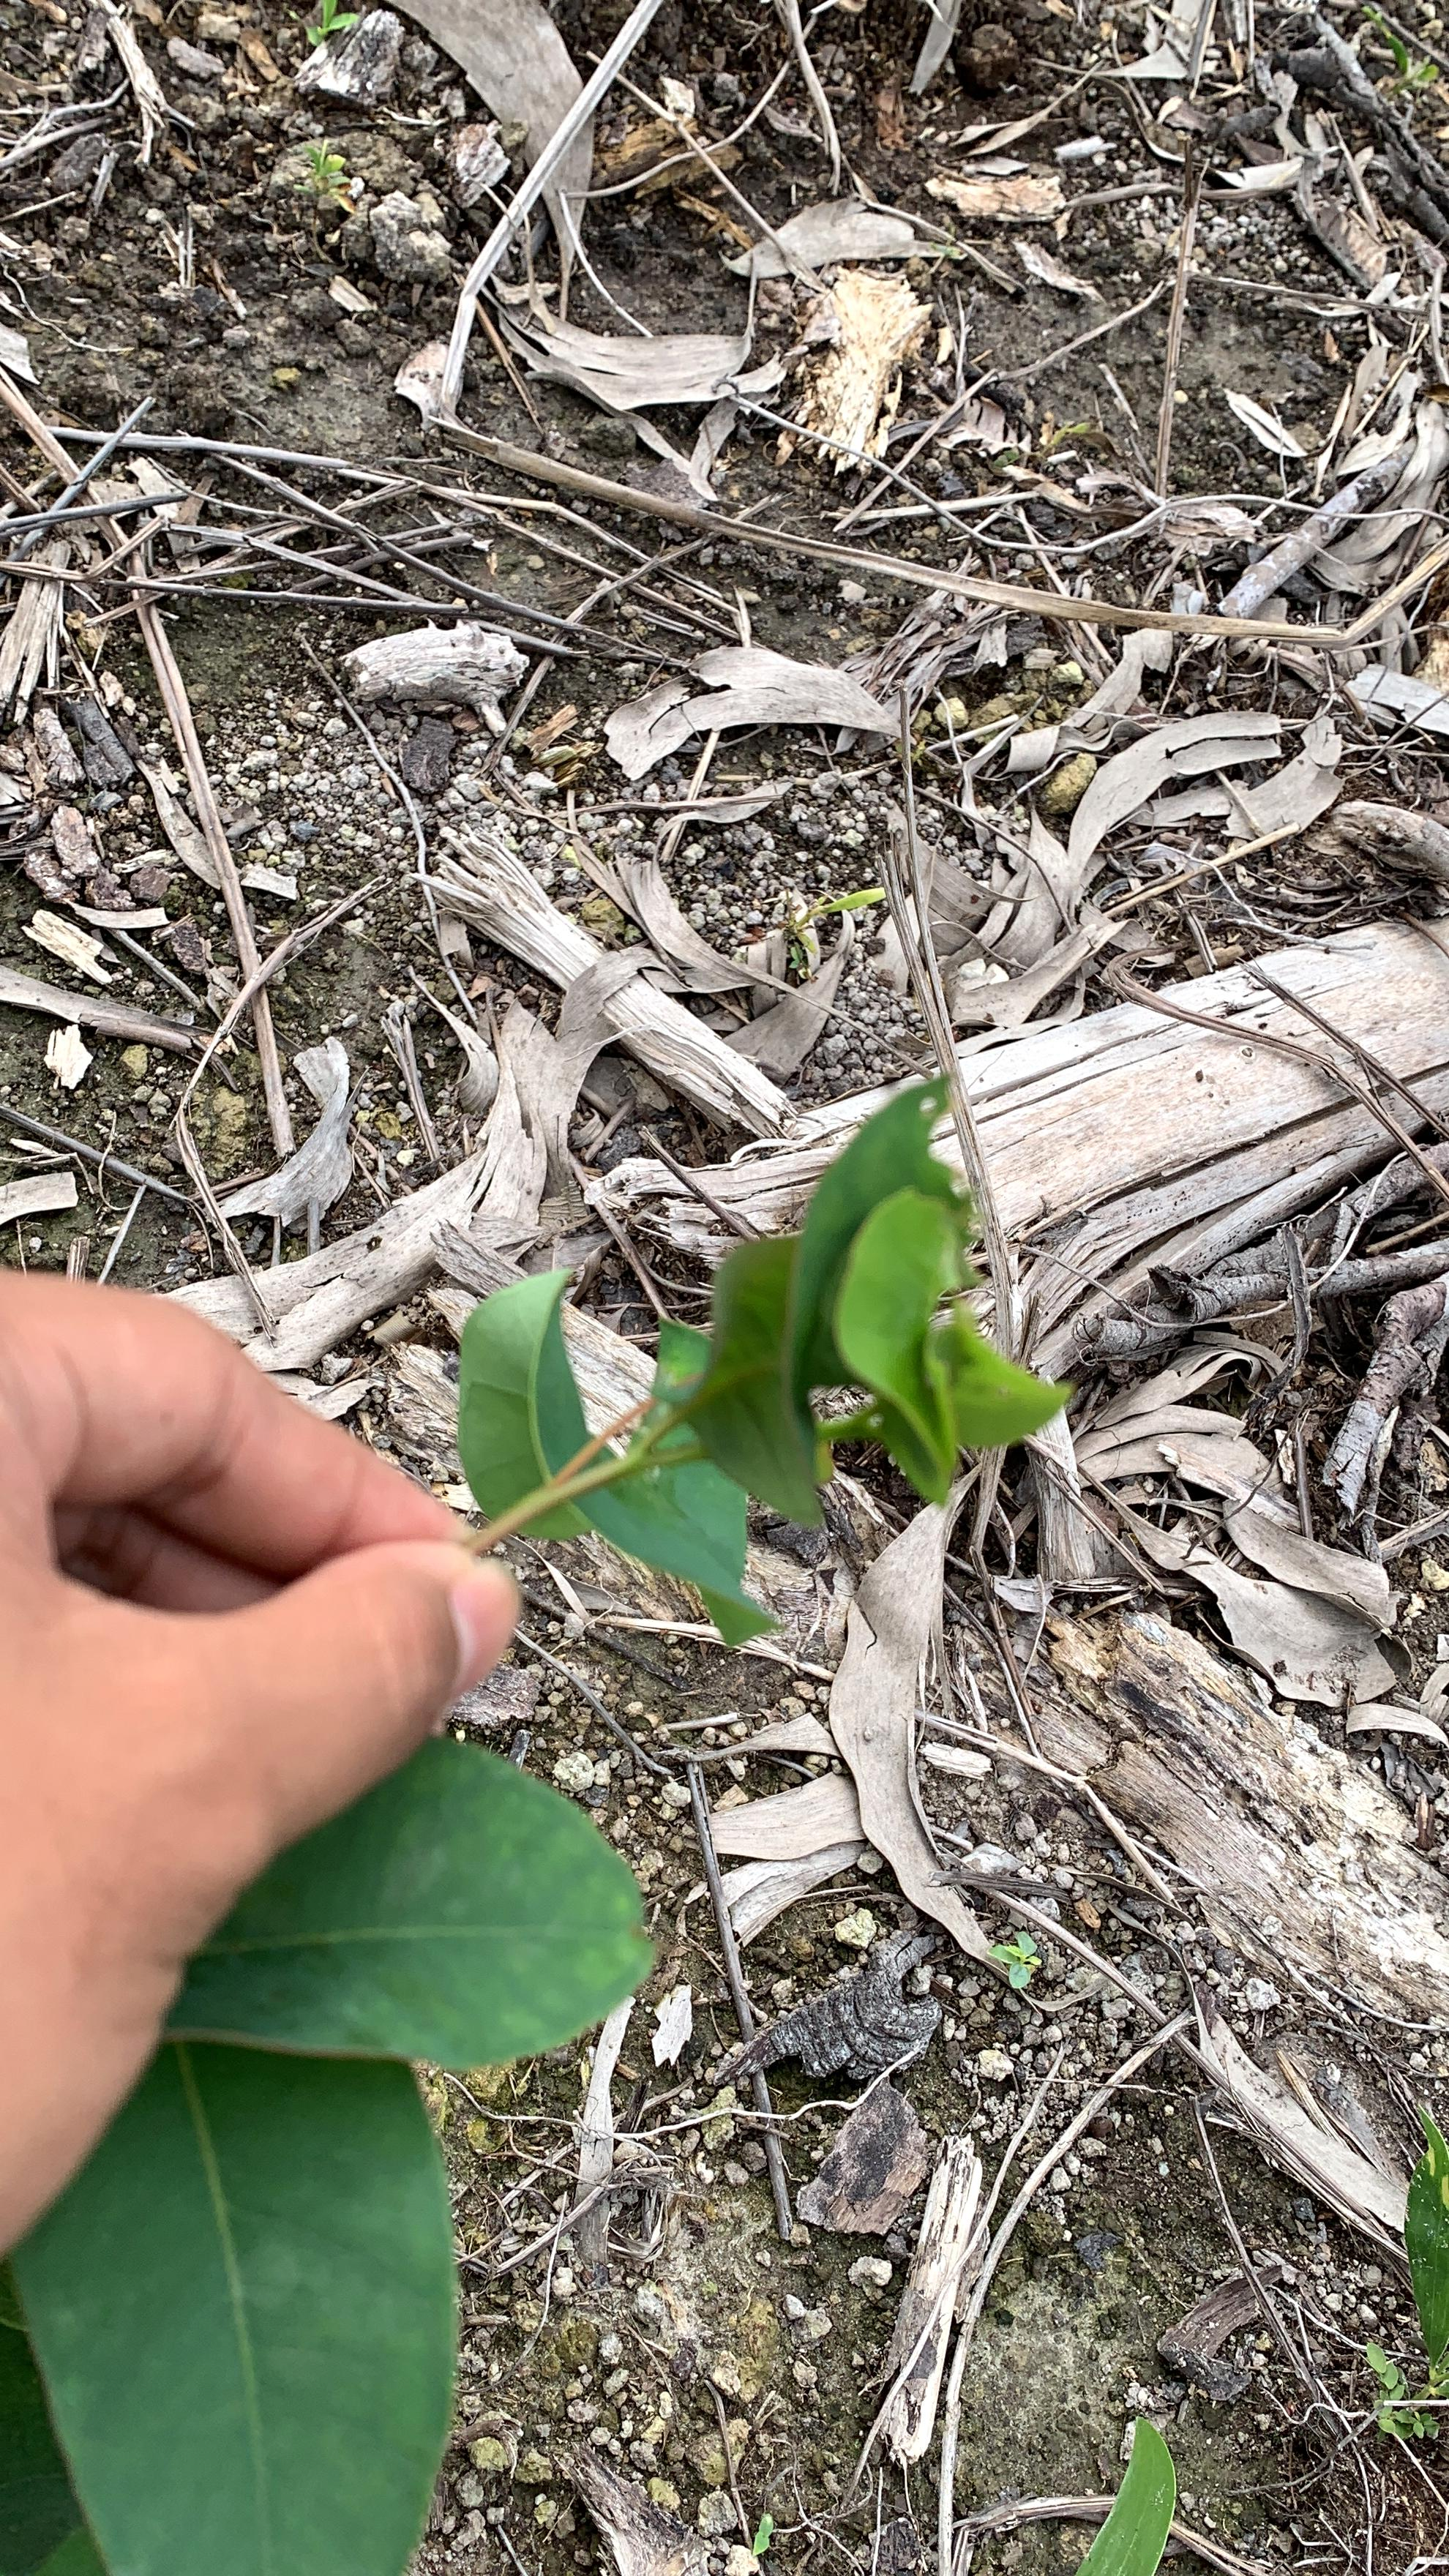Leaf Roller - Leaf: (674, 1080, 1057, 1507)
